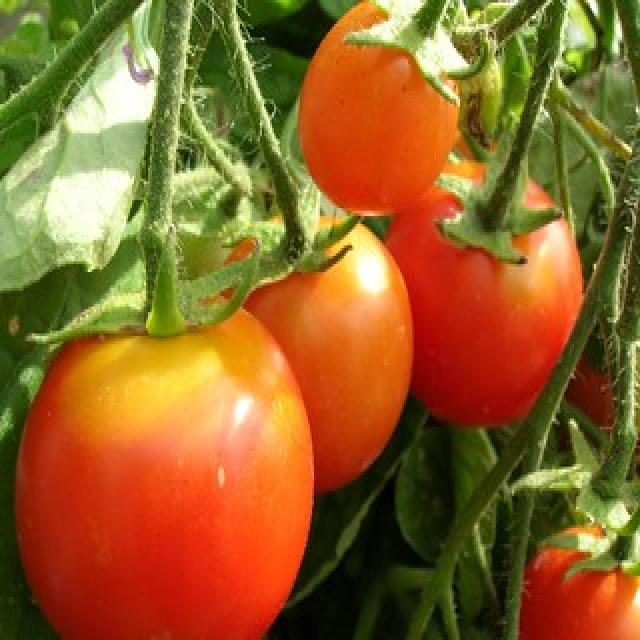Tomato: (0, 281, 315, 640), (207, 208, 416, 498), (381, 156, 586, 429), (295, 0, 465, 220), (512, 515, 640, 640)
